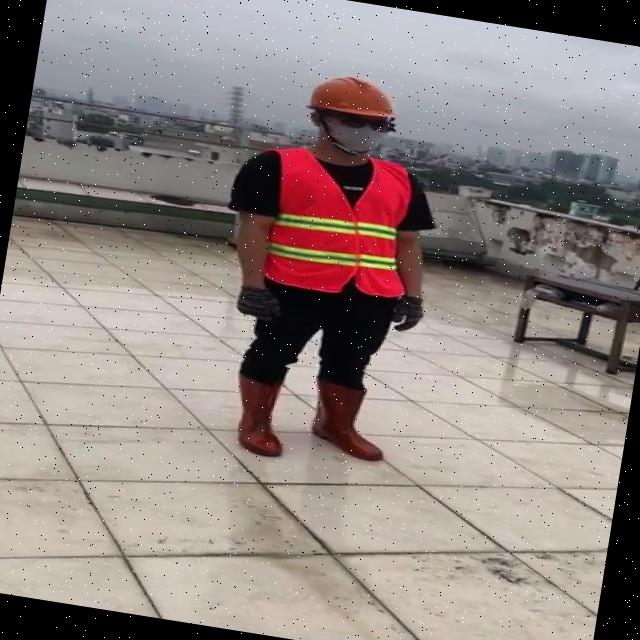boots: (211, 364, 302, 462), (304, 379, 397, 465)
